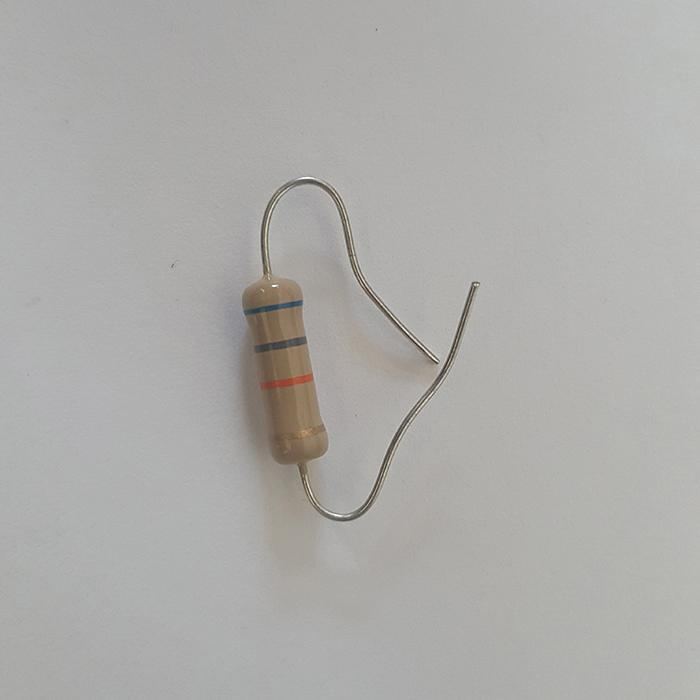resistor: (242, 272, 328, 465)
